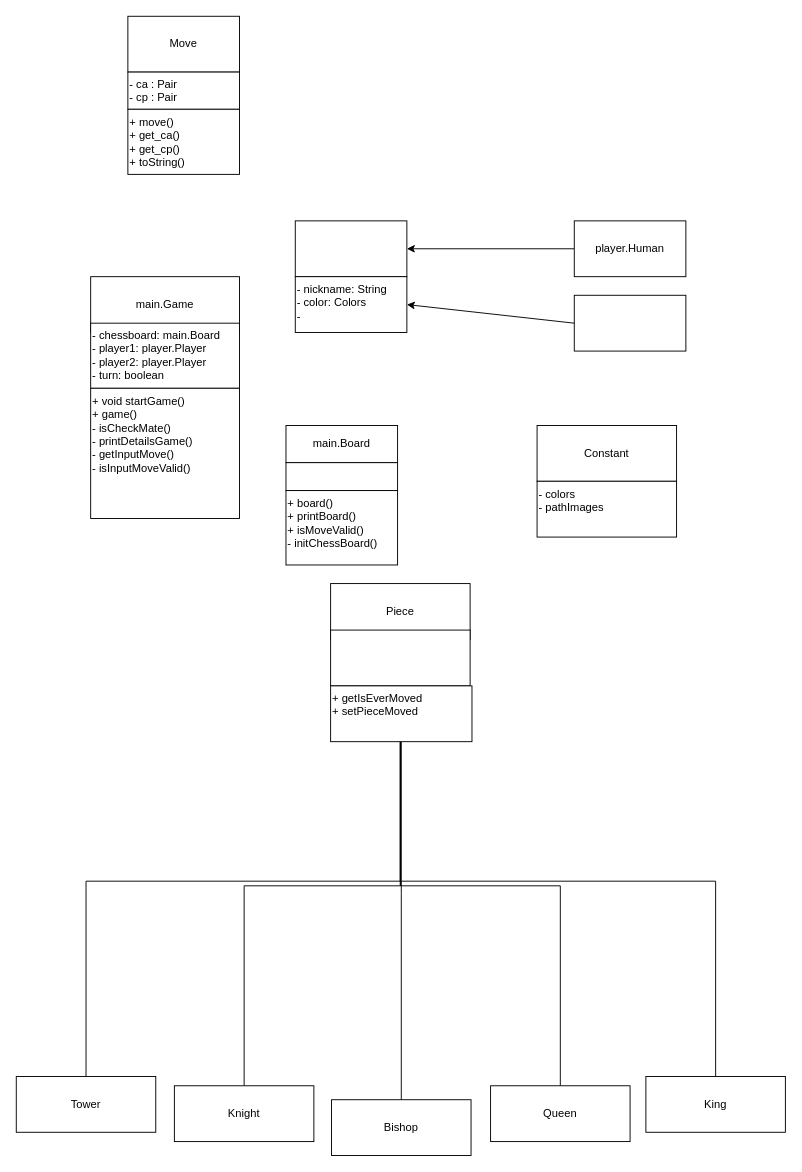
The diagram is 802 pixels wide and 1172 high, and some of its shapes have lost their labels. The box of each missing label's shape, as (x1, y1, x2, y2) in pixels:
- arr[64] Piece: (285, 462, 398, 491)
- color: 2 bit - isEverMoved: boolean - image: blob: (330, 629, 470, 686)
player.Bot: (573, 294, 686, 351)
player.Player: (294, 220, 407, 277)
